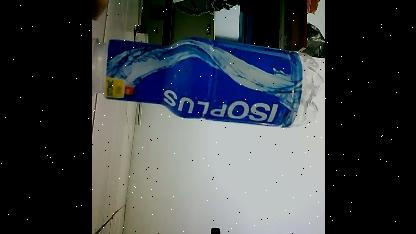Plastic Bottle: (91, 30, 323, 134)
